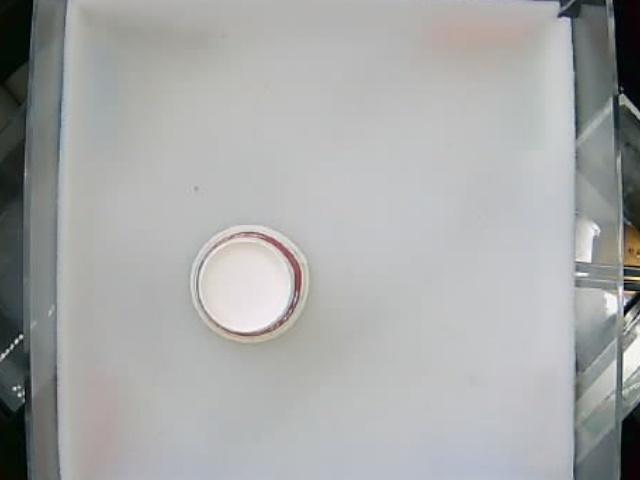Cup: (189, 218, 309, 340)
